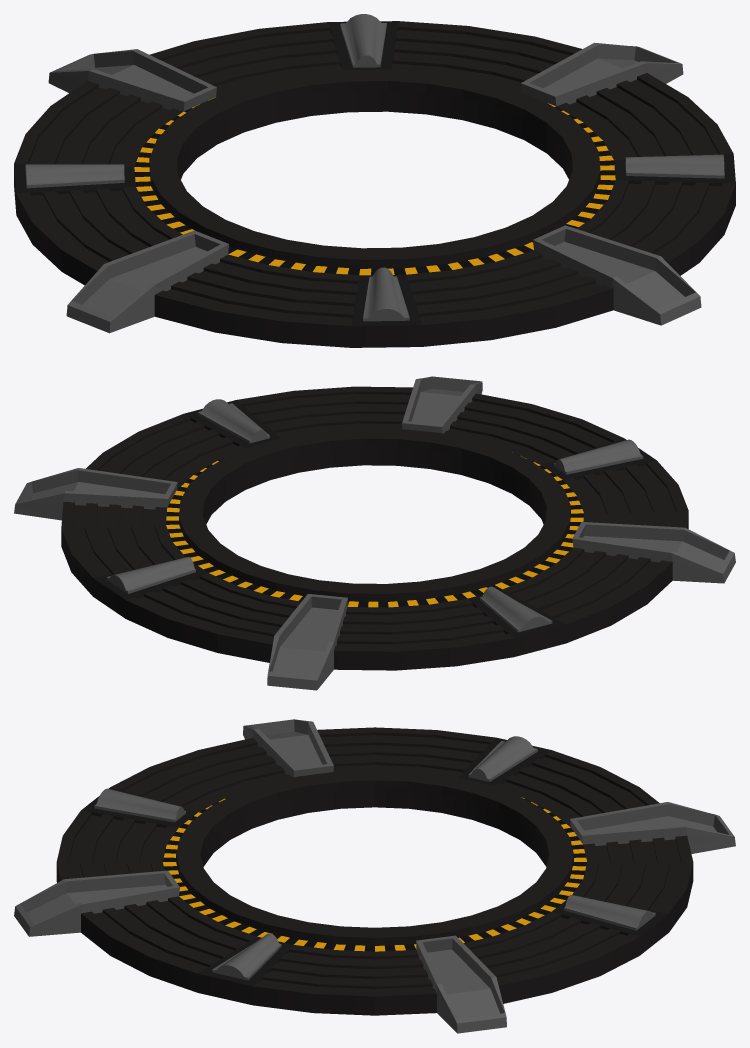
The model's file is Hatch.FBX.
3 renders of one model, top to bottom at view 1: azimuth 30°, elevation 25°; view 2: azimuth 150°, elevation 25°; view 3: azimuth 270°, elevation 25°, orthographic. The views are drawn at different scales.
Visible parts, largest first — view 1: Cylinder003, Cylinder001, Cylinder004, Cylinder002; view 2: Cylinder002, Cylinder001, Cylinder004, Cylinder003; view 3: Cylinder004, Cylinder001, Cylinder002, Cylinder003.
Boxes of the visible parts, left/top/right/bottom form: Cylinder003: left=61, top=206, right=555, bottom=347; Cylinder001: left=194, top=14, right=687, bottom=152; Cylinder004: left=474, top=97, right=735, bottom=327; Cylinder002: left=14, top=41, right=275, bottom=271; Cylinder002: left=218, top=547, right=647, bottom=690; Cylinder001: left=14, top=453, right=288, bottom=652; Cylinder004: left=103, top=376, right=531, bottom=501; Cylinder003: left=461, top=404, right=735, bottom=603; Cylinder004: left=14, top=854, right=374, bottom=1015; Cylinder001: left=375, top=854, right=693, bottom=1033; Cylinder002: left=375, top=727, right=735, bottom=866; Cylinder003: left=56, top=719, right=374, bottom=866.
Bounding box in the file's own units: 246 × 11.23 × 246.
